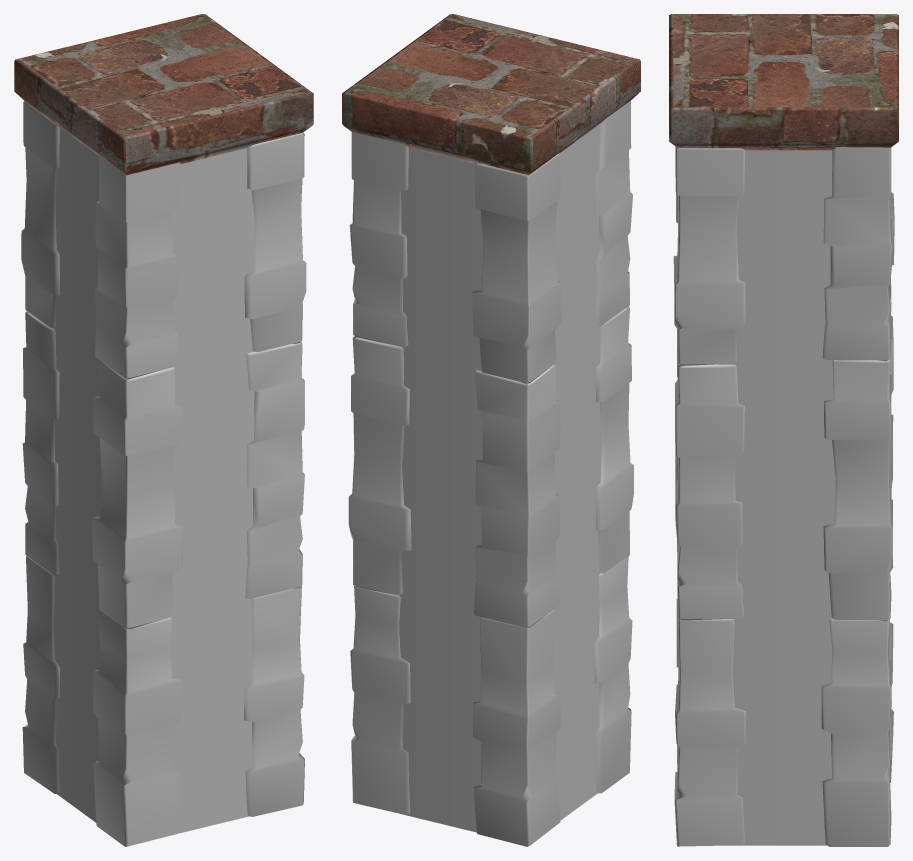
Rendered from SM_Brick_Column_04.fbx.
3 views of the same model, side by side, from view 1: azimuth 30°, elevation 25°; view 2: azimuth 150°, elevation 25°; view 3: azimuth 270°, elevation 25° (orthographic). The views are drawn at different scales.
Parts seen in each view (by area): view 1: SM_Brick_Column_04_LOD0; view 2: SM_Brick_Column_04_LOD0; view 3: SM_Brick_Column_04_LOD0.
Boxes of the visible parts, x1,y1,x2,y2 form: SM_Brick_Column_04_LOD0: (14, 14, 313, 846); SM_Brick_Column_04_LOD0: (342, 14, 640, 846); SM_Brick_Column_04_LOD0: (669, 14, 898, 846).
Size of what is drawn, in the model's own units: 168 by 602 by 169.
